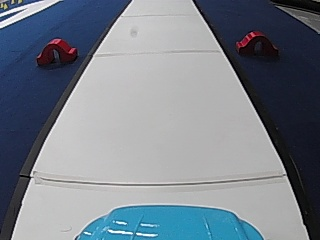bridge: (34, 34, 77, 67), (234, 27, 279, 57)
